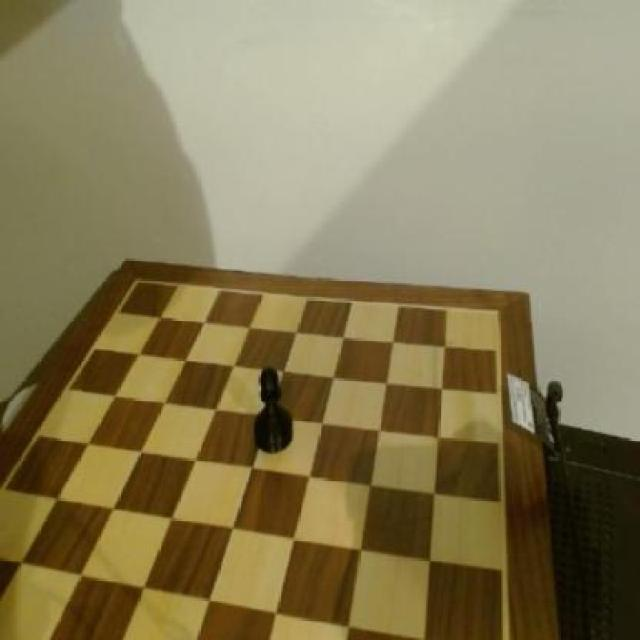black-knight: (254, 360, 298, 455)
